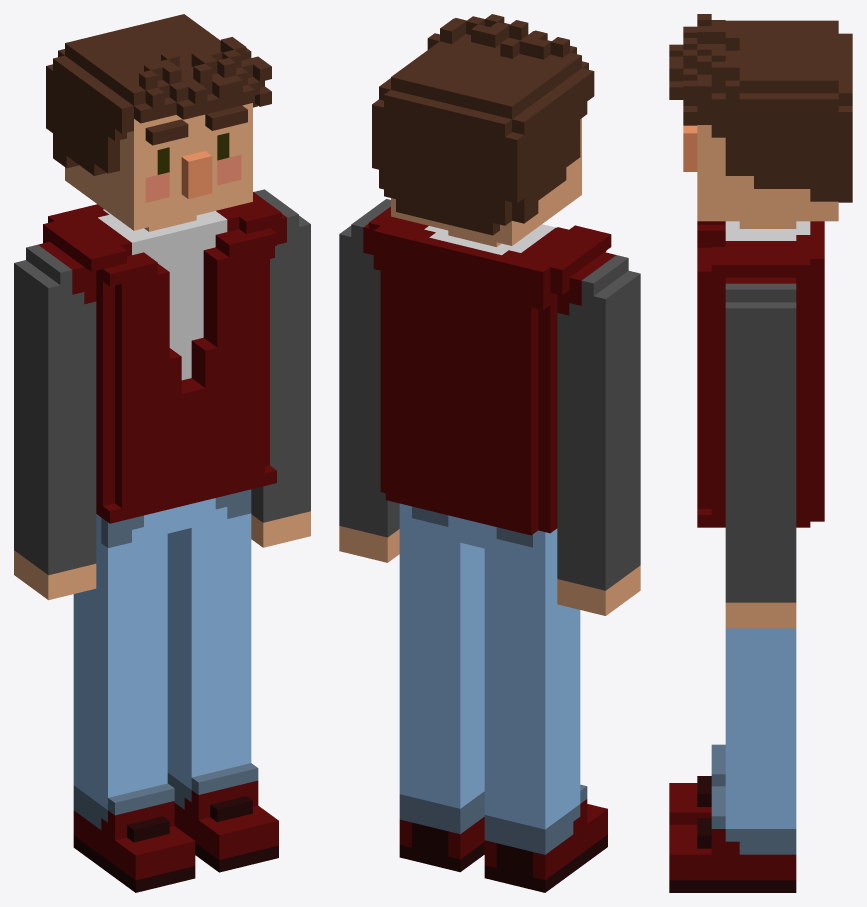
The model's file is Personagem 1 - Christian.obj.
3 views of the same model, side by side, from view 1: azimuth 30°, elevation 25°; view 2: azimuth 150°, elevation 25°; view 3: azimuth 270°, elevation 25° (orthographic). The views are drawn at different scales.
Size of the model in its own units: 2.2 by 6.4 by 1.3.
1 material, 1 textured.
